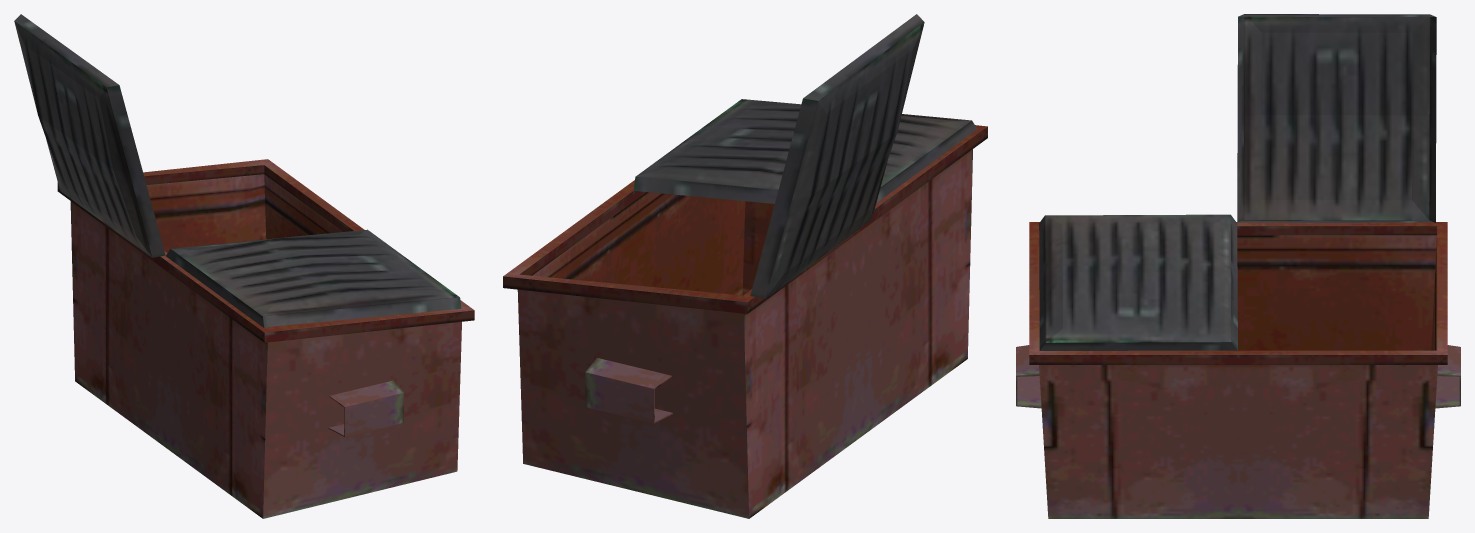
File: Urban_DumpsterDiagonalEmptyOpenRed_Model.fbx
The picture shows the model from 3 angles, left to right: view 1: azimuth 30°, elevation 25°; view 2: azimuth 150°, elevation 25°; view 3: azimuth 270°, elevation 25°; orthographic projection. The views are drawn at different scales.
Visible parts, largest first — view 1: Urban_DumpsterDiagonalEmptyOpenRed_Mesh; view 2: Urban_DumpsterDiagonalEmptyOpenRed_Mesh; view 3: Urban_DumpsterDiagonalEmptyOpenRed_Mesh.
Part boxes in pixels (box(x1,y1,x2,y2)): Urban_DumpsterDiagonalEmptyOpenRed_Mesh: box(14, 14, 474, 518); Urban_DumpsterDiagonalEmptyOpenRed_Mesh: box(503, 14, 987, 518); Urban_DumpsterDiagonalEmptyOpenRed_Mesh: box(1016, 14, 1460, 518).
Bounding box in the file's own units: 2.53 × 3.48 × 3.67.
